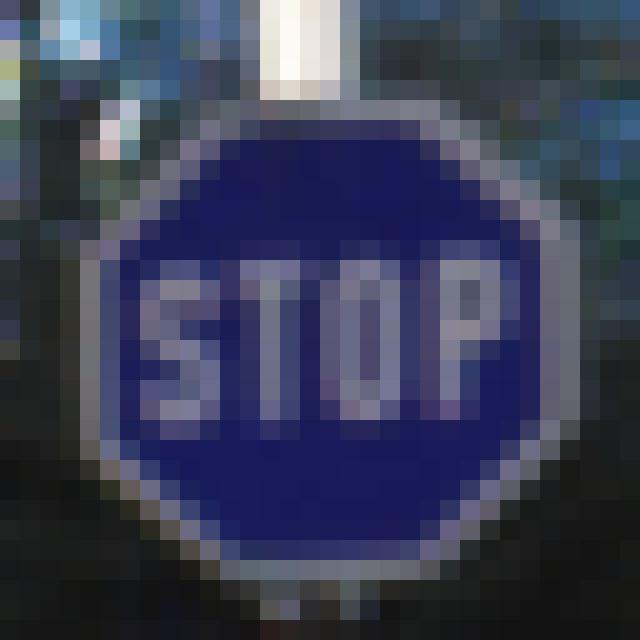STOP: (102, 125, 550, 560)
